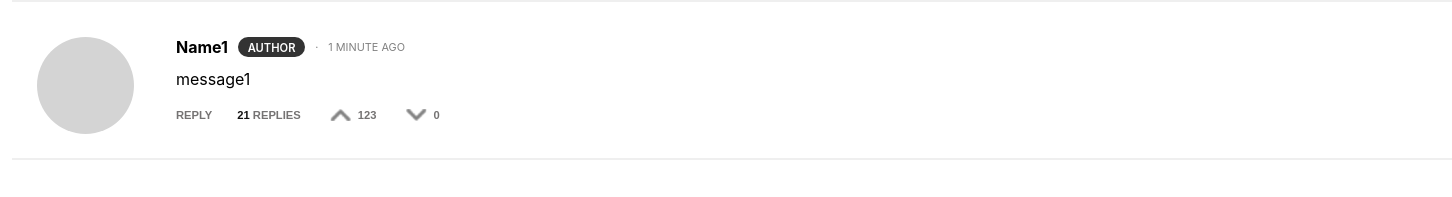
Test: <Comment /> tests › renders clickable Replies button
Click the button "21 Replies": [274, 115] box left=237, top=98, right=311, bottom=132
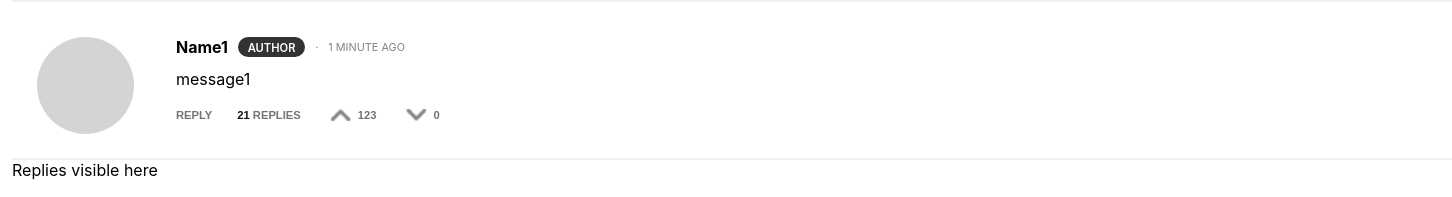
Result: the number of elements with class "comment__replies" is 1 at left=12, top=160, right=158, bottom=180
